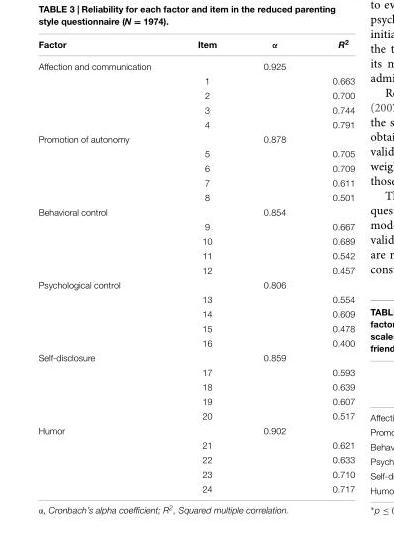table: (37, 37, 354, 493)
table column: (37, 37, 173, 493), (239, 37, 308, 493), (173, 37, 239, 493), (308, 37, 354, 493)
table column header: (37, 37, 354, 54)
table row: (37, 54, 354, 72), (37, 37, 354, 54), (37, 72, 354, 87), (37, 101, 354, 116), (37, 116, 354, 131), (37, 145, 354, 160), (37, 174, 354, 189), (37, 203, 354, 218), (37, 218, 354, 233), (37, 247, 354, 262), (37, 276, 354, 291), (37, 305, 354, 320), (37, 320, 354, 335), (37, 349, 354, 364), (37, 378, 354, 393), (37, 407, 354, 422), (37, 422, 354, 437), (37, 451, 354, 466), (37, 87, 354, 101), (37, 131, 354, 145), (37, 160, 354, 174), (37, 189, 354, 203), (37, 233, 354, 247), (37, 262, 354, 276), (37, 291, 354, 305), (37, 335, 354, 349), (37, 364, 354, 378), (37, 393, 354, 407), (37, 437, 354, 451), (37, 466, 354, 480), (37, 480, 354, 493)
table spanning cell: (37, 54, 173, 131), (37, 203, 173, 276), (37, 276, 173, 349), (37, 349, 173, 422), (37, 131, 173, 203), (37, 422, 173, 493)
